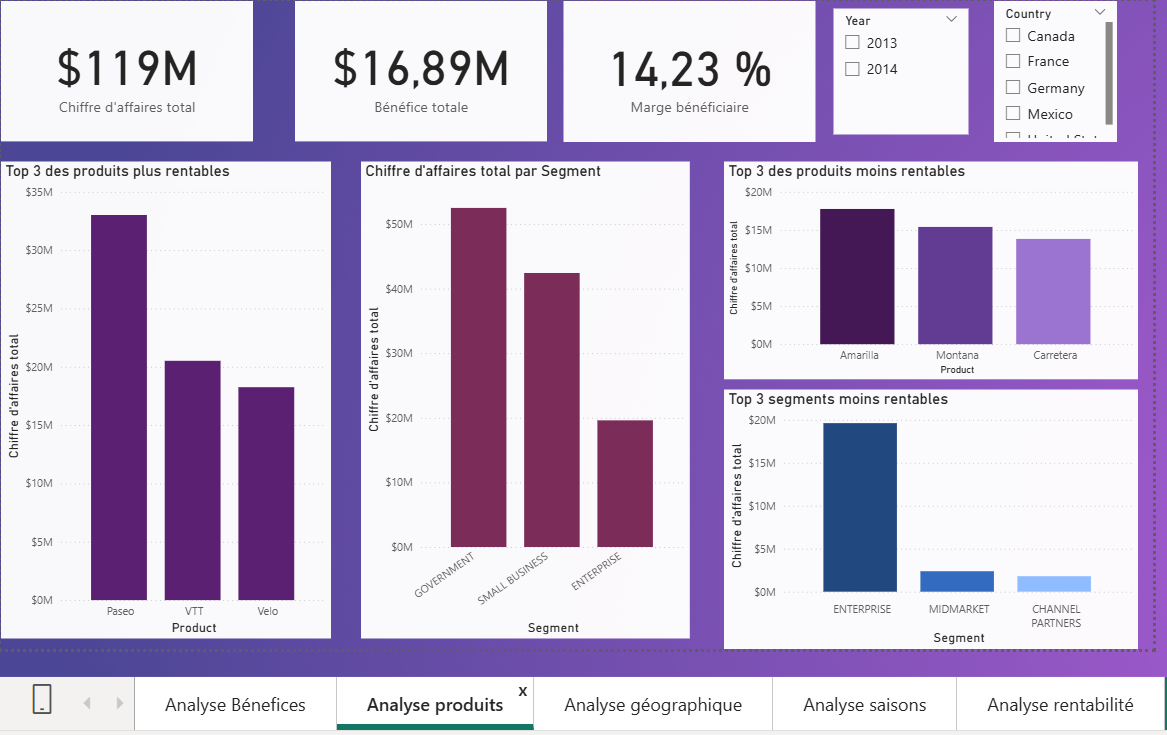

What the dashboard file says about the page in this screenshot:
{"tool":"powerbi","page":{"name":"Analyse produits ","canvas":[1280,720],"ordinal":1},"visuals":[{"type":"card","fields":{"Values":["financials.Bénéfice totale"]},"box":[326.1,0,279.9,155.9],"z":0},{"type":"card","fields":{"Values":["financials.Chiffre d'affaires total"]},"box":[0,0,279.9,155.9],"z":1000},{"type":"card","fields":{"Values":["financials.Marge bénéficiaire"]},"box":[625,0,280,156.7],"z":2000},{"type":"clusteredColumnChart","title":"Top 3 des produits plus rentables","fields":{"Category":["financials.Product"],"Y":["financials.Chiffre d'affaires total"]},"box":[0,178.3,366.7,530],"z":3000},{"type":"clusteredColumnChart","fields":{"Category":["financials.Segment"],"Y":["financials.Chiffre d'affaires total"]},"box":[400,178.3,365,530],"z":4000},{"type":"slicer","fields":{"Values":["Calendar.Date.Variation.Date Hierarchy.Year"]},"box":[925,8.3,150,140],"z":5000},{"type":"slicer","fields":{"Values":["financials.Country"]},"box":[1103.3,0,136.7,156.7],"z":6000},{"type":"clusteredColumnChart","title":"Top 3 des produits moins rentables","fields":{"Category":["financials.Product"],"Y":["financials.Chiffre d'affaires total"]},"box":[803.3,178.3,460,241.7],"z":7000},{"type":"clusteredColumnChart","title":"Top 3 segments moins rentables","fields":{"Category":["financials.Segment"],"Y":["financials.Chiffre d'affaires total"]},"box":[803.3,431.7,460,288.3],"z":8000}]}

Visuals, with their boxes in screenshot pixels (x1, y1, x2, y2):
card - financials.Bénéfice totale: bbox=[293, 0, 545, 140]
card - financials.Chiffre d'affaires total: bbox=[0, 0, 252, 140]
card - financials.Marge bénéficiaire: bbox=[562, 0, 814, 141]
"Top 3 des produits plus rentables" clusteredColumnChart: bbox=[0, 160, 330, 637]
clusteredColumnChart - financials.Segment x financials.Chiffre d'affaires total: bbox=[360, 160, 688, 637]
slicer - Calendar.Date.Variation.Date Hierarchy.Year: bbox=[832, 7, 967, 133]
slicer - financials.Country: bbox=[992, 0, 1115, 141]
"Top 3 des produits moins rentables" clusteredColumnChart: bbox=[722, 160, 1136, 378]
"Top 3 segments moins rentables" clusteredColumnChart: bbox=[722, 388, 1136, 647]
